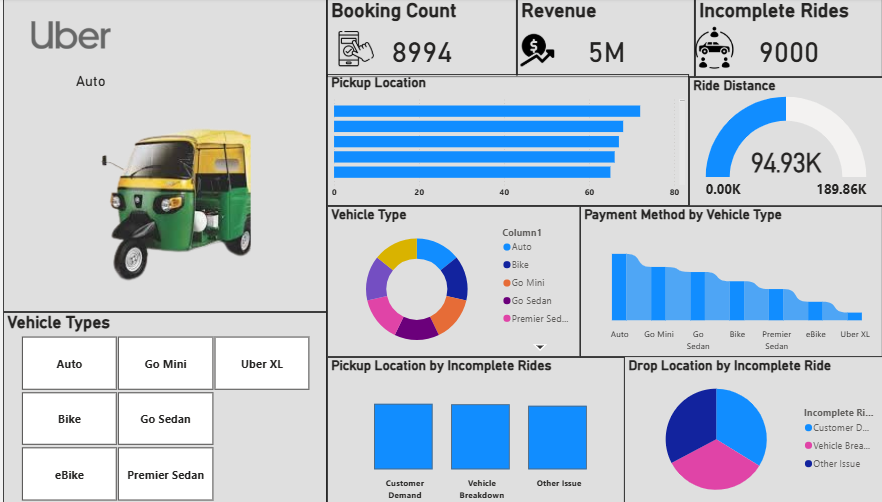

What the dashboard file says about the page in this screenshot:
{"tool":"powerbi","page":{"name":"Overview","canvas":[1280,720],"ordinal":1},"visuals":[{"type":"image","box":[61.5,0,121.5,104.6],"z":0},{"type":"card","title":"Booking Count","fields":{"Values":["Sheet3.Booking_Count"]},"box":[484.6,0,269.2,112.3],"z":1000},{"type":"card","title":"Revenue","fields":{"Values":["Sum(ncr_ride_bookings.Booking Value)"]},"box":[753.8,0,252.3,112.3],"z":2000},{"type":"card","title":"Incomplete Rides","fields":{"Values":["Sum(ncr_ride_bookings.Incomplete Rides)"]},"box":[1006.2,0,266.2,112.3],"z":3000},{"type":"gauge","title":" Ride Distance","fields":{"Y":["Sum(ncr_ride_bookings.Ride Distance)"]},"box":[997.8,112,275,182.8],"z":4000},{"type":"image","box":[25.5,0,459.2,445],"z":5000},{"type":"card","fields":{"Values":["Min(ncr_ride_bookings.Vehicle Type)"]},"box":[40,83.1,220,67.7],"z":6000},{"type":"clusteredBarChart","title":" Pickup Location","fields":{"Category":["ncr_ride_bookings.Pickup Location"],"Y":["CountNonNull(ncr_ride_bookings.Drop Location)"]},"box":[484.7,107.7,513.1,187.1],"z":7000},{"type":"donutChart","title":"Vehicle Type","fields":{"Y":["CountNonNull(ncr_ride_bookings.Vehicle Type)"],"Category":["Veh_IMG.Column1"]},"box":[484.7,294.8,358.6,214],"z":8000},{"type":"columnChart","title":"Pickup Location by Incomplete Rides","fields":{"Y":["CountNonNull(ncr_ride_bookings.Pickup Location)"],"Category":["ncr_ride_bookings.Incomplete Rides Reason"]},"box":[484.7,508.8,422.4,211.2],"z":9000},{"type":"ribbonChart","title":"Payment Method by Vehicle Type","fields":{"Category":["ncr_ride_bookings.Vehicle Type"],"Y":["CountNonNull(ncr_ride_bookings.Payment Method)"]},"box":[843.3,294.8,429.4,214],"z":10000},{"type":"slicer","title":"Vehicle Types","fields":{"Values":["ncr_ride_bookings.Vehicle Type"]},"box":[25.5,445,459.2,275],"z":11000},{"type":"image","box":[495.4,36.9,60,70.8],"z":12000},{"type":"image","box":[723.1,44.6,120,58.5],"z":13000},{"type":"image","box":[998.5,26.2,72.3,90.8],"z":14000},{"type":"pieChart","title":" Drop Location by Incomplete Ride","fields":{"Y":["CountNonNull(ncr_ride_bookings.Drop Location)"],"Category":["ncr_ride_bookings.Incomplete Rides Reason"]},"box":[907.1,508.8,365.7,211.2],"z":15000}]}

Visuals, with their boxes in screenshot pixels (x1, y1, x2, y2), scaled from the page's 1280x720 canvas onto the 882x502 screenshot:
image: select_region(42, 0, 126, 73)
"Booking Count" card: select_region(334, 0, 519, 78)
"Revenue" card: select_region(519, 0, 693, 78)
"Incomplete Rides" card: select_region(693, 0, 877, 78)
" Ride Distance" gauge: select_region(688, 78, 877, 206)
image: select_region(18, 0, 334, 310)
card - Min(ncr_ride_bookings.Vehicle Type): select_region(28, 58, 179, 105)
" Pickup Location" clusteredBarChart: select_region(334, 75, 688, 206)
"Vehicle Type" donutChart: select_region(334, 206, 581, 355)
"Pickup Location by Incomplete Rides" columnChart: select_region(334, 355, 625, 501)
"Payment Method by Vehicle Type" ribbonChart: select_region(581, 206, 877, 355)
"Vehicle Types" slicer: select_region(18, 310, 334, 501)
image: select_region(341, 26, 383, 75)
image: select_region(498, 31, 581, 72)
image: select_region(688, 18, 738, 82)
" Drop Location by Incomplete Ride" pieChart: select_region(625, 355, 877, 501)
